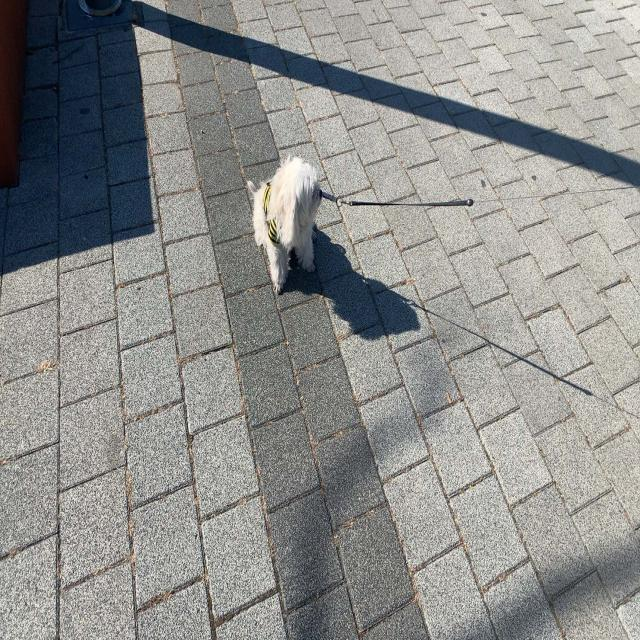Dog: (246, 154, 324, 296)
